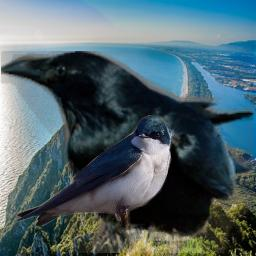Crow: (1, 51, 254, 253)
Swallow: (14, 115, 173, 226)
